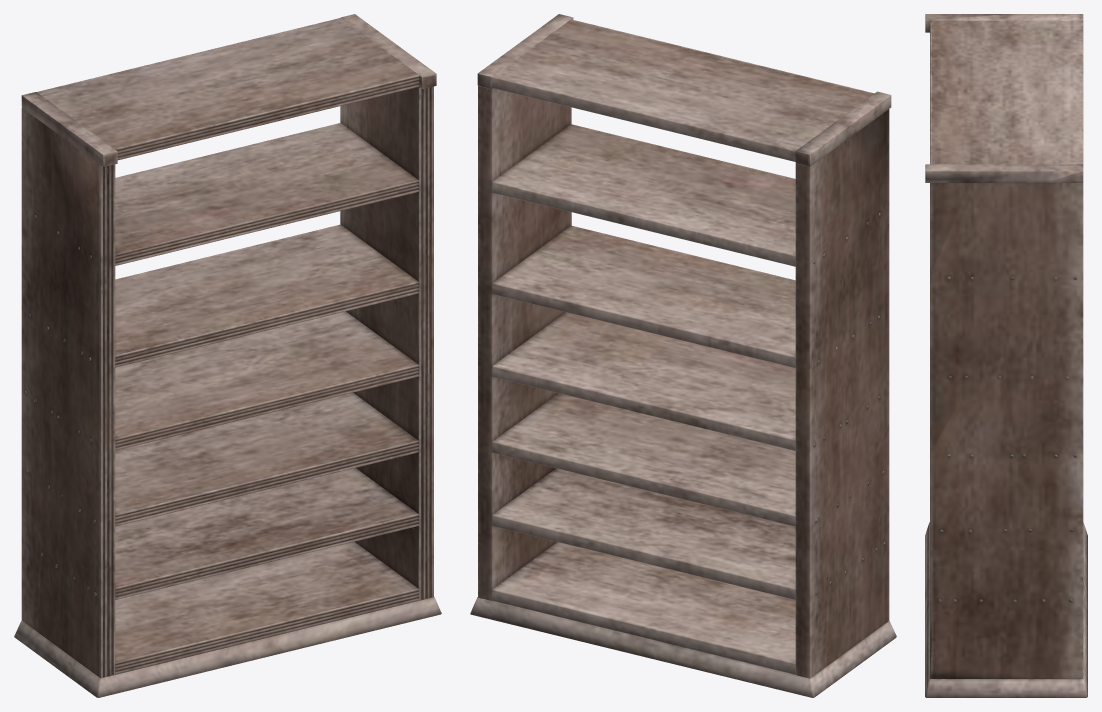
The model's file is regal.glb.
3 views of the same model, side by side, from view 1: azimuth 30°, elevation 25°; view 2: azimuth 150°, elevation 25°; view 3: azimuth 270°, elevation 25° (orthographic). The views are drawn at different scales.
Visible parts, largest first — view 1: wooden_bookshelf_worn; view 2: wooden_bookshelf_worn; view 3: wooden_bookshelf_worn.
Boxes of the visible parts, x1,y1,x2,y2 form: wooden_bookshelf_worn: (14,14,441,697); wooden_bookshelf_worn: (470,14,896,697); wooden_bookshelf_worn: (925,14,1087,697).
Bounding box in the file's own units: 1.37 × 2.06 × 0.5813.
Materials: 1 (1 with a texture image).
